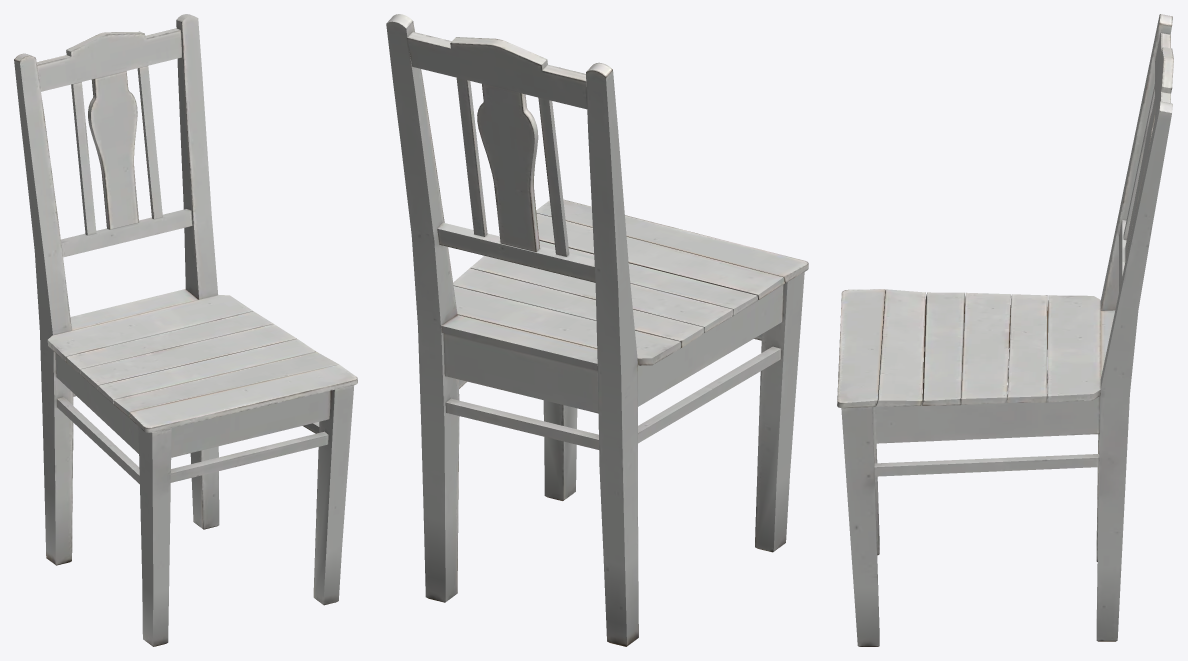
Rendered from chair-wood-white.glb.
The picture shows the model from 3 angles, left to right: view 1: azimuth 30°, elevation 25°; view 2: azimuth 150°, elevation 25°; view 3: azimuth 270°, elevation 25°; orthographic projection. The views are drawn at different scales.
Visible parts, largest first — view 1: painted_wooden_chair_01; view 2: painted_wooden_chair_01; view 3: painted_wooden_chair_01.
Part boxes in pixels (bbox=[...]): painted_wooden_chair_01: bbox=[14, 14, 357, 646]; painted_wooden_chair_01: bbox=[386, 14, 808, 646]; painted_wooden_chair_01: bbox=[837, 14, 1173, 646].
Bounding box in the file's own units: 0.4299 × 0.955 × 0.54.
Materials: 1 (1 with a texture image).
